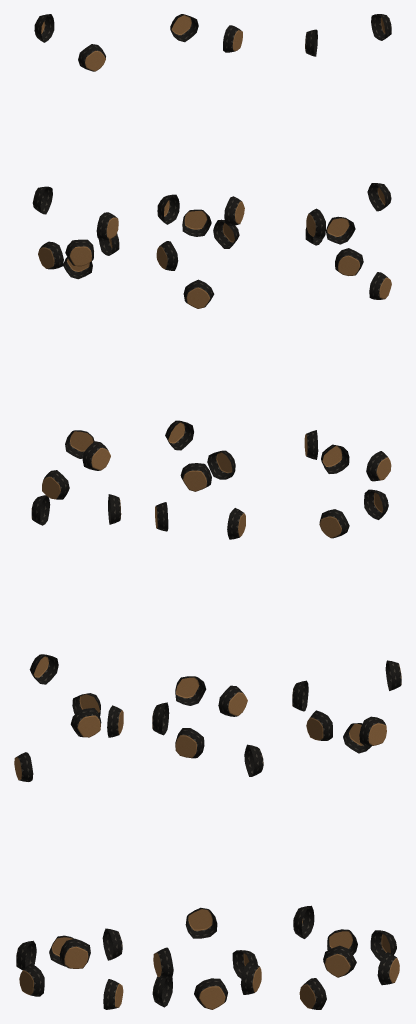
The model's file is Sitka_Mature_03_HighPruned_Recent_LOD2.fbx.
3 renders of one model, left to right at view 1: azimuth 30°, elevation 25°; view 2: azimuth 210°, elevation 25°; view 3: azimuth 270°, elevation 25°, orthographic.
Parts seen in each view (by area): view 1: Sitka_Mature_03_HighPruned_Recent_LOD2_Scars; view 2: Sitka_Mature_03_HighPruned_Recent_LOD2_Scars; view 3: Sitka_Mature_03_HighPruned_Recent_LOD2_Scars.
Part boxes in pixels (bbox=[...]): Sitka_Mature_03_HighPruned_Recent_LOD2_Scars: bbox=[14, 14, 123, 1009]; Sitka_Mature_03_HighPruned_Recent_LOD2_Scars: bbox=[152, 14, 263, 1009]; Sitka_Mature_03_HighPruned_Recent_LOD2_Scars: bbox=[292, 14, 401, 1009].
Size of what is drawn, in the model's own units: 46.68 by 463 by 46.96.
Materials: 2 (2 with a texture image).
